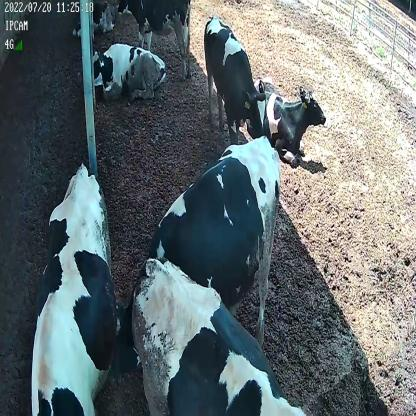cow: (116, 132, 283, 367), (203, 10, 267, 148), (253, 70, 327, 165), (120, 1, 196, 82), (88, 45, 167, 103)
